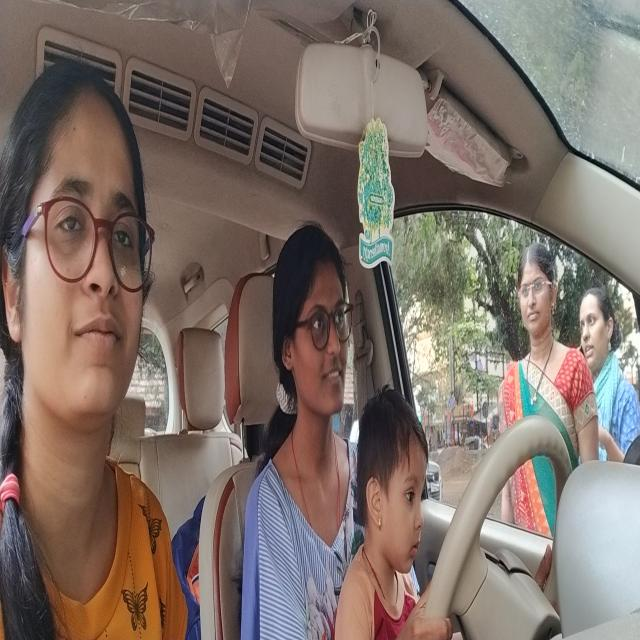child: (355, 384, 436, 584)
person: (0, 53, 158, 439), (269, 213, 357, 427)
